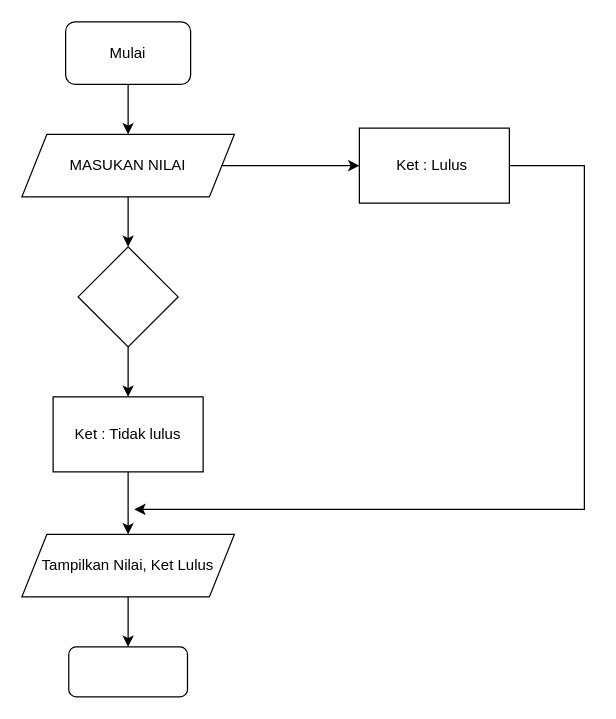
Some shapes in this 616 by 719 pixel diagram are drawn without their labels. The shapes that lost their labels are listed below. From the top down, each one's box as (x1, y1, x2, y2) in pixels, then its label:
(77, 246, 178, 347): If nilai > 70
(68, 646, 188, 697): Selesai
